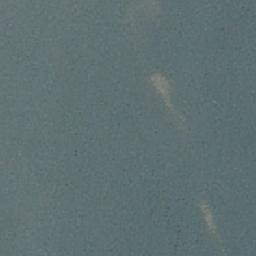debris: (201, 203, 215, 232), (151, 74, 169, 89), (161, 91, 173, 107)
